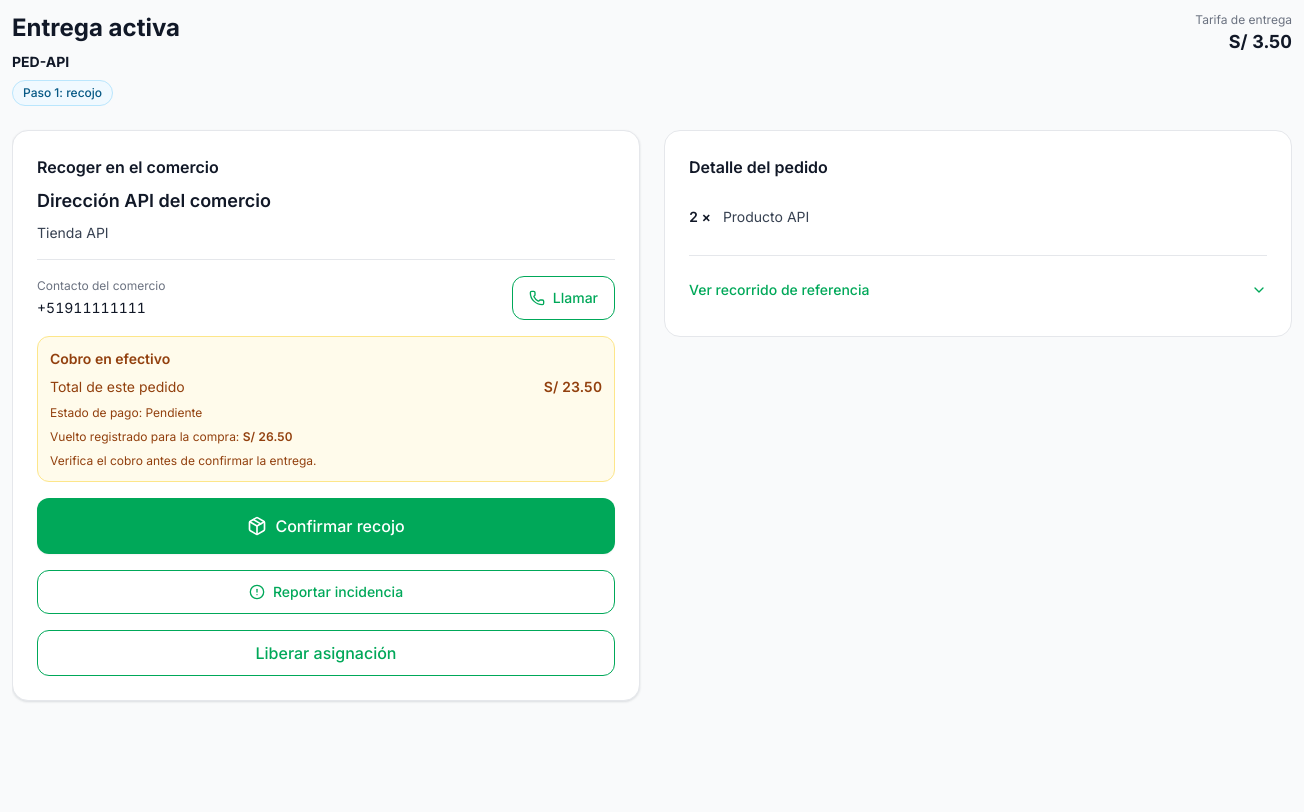
Scenario: recupera la asignación y envía assignmentId y su versión en recojo
Click the button "Confirmar recojo": [326, 526] box x1=37 y1=498 x2=615 y2=554
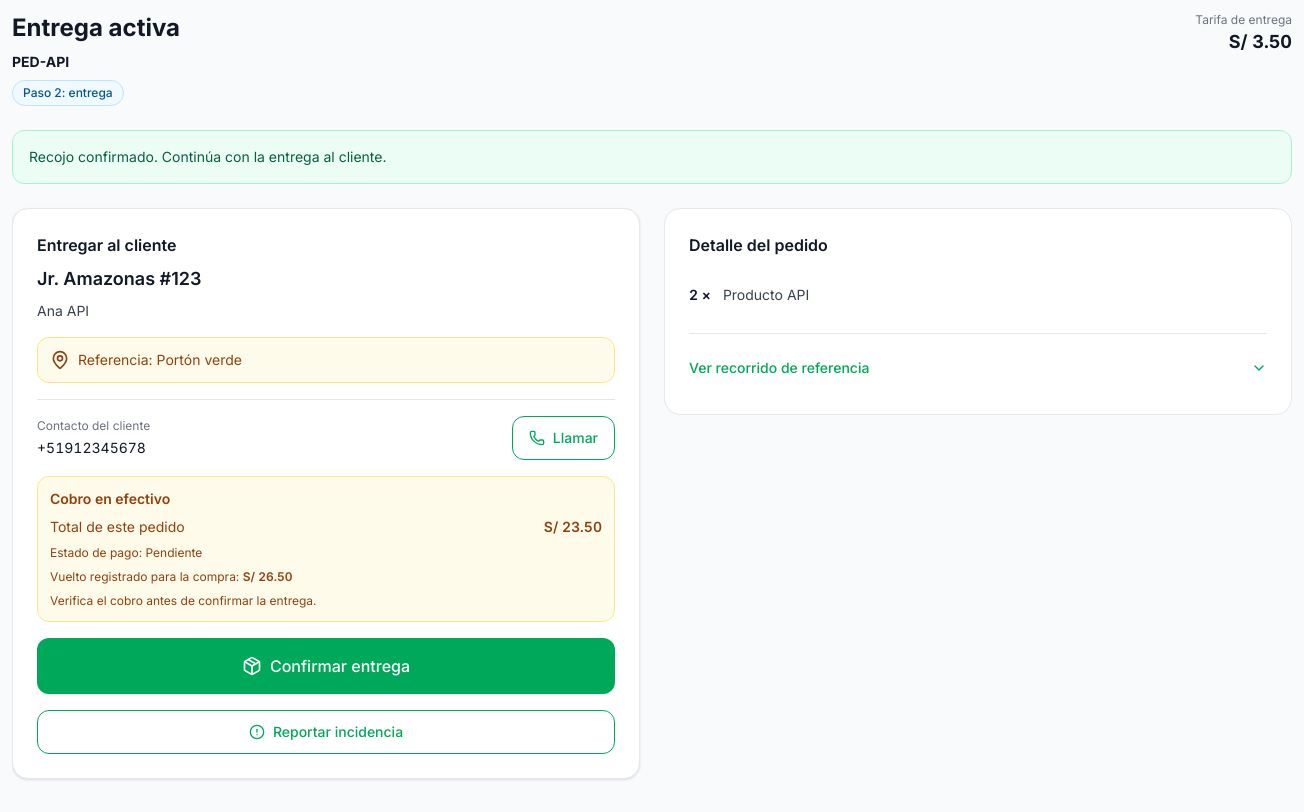
Result: the text "Recojo confirmado. Continúa con la entrega al cliente." is shown at x1=12 y1=130 x2=1292 y2=184
Result: the heading "Entregar al cliente" is shown at x1=37 y1=235 x2=176 y2=255
